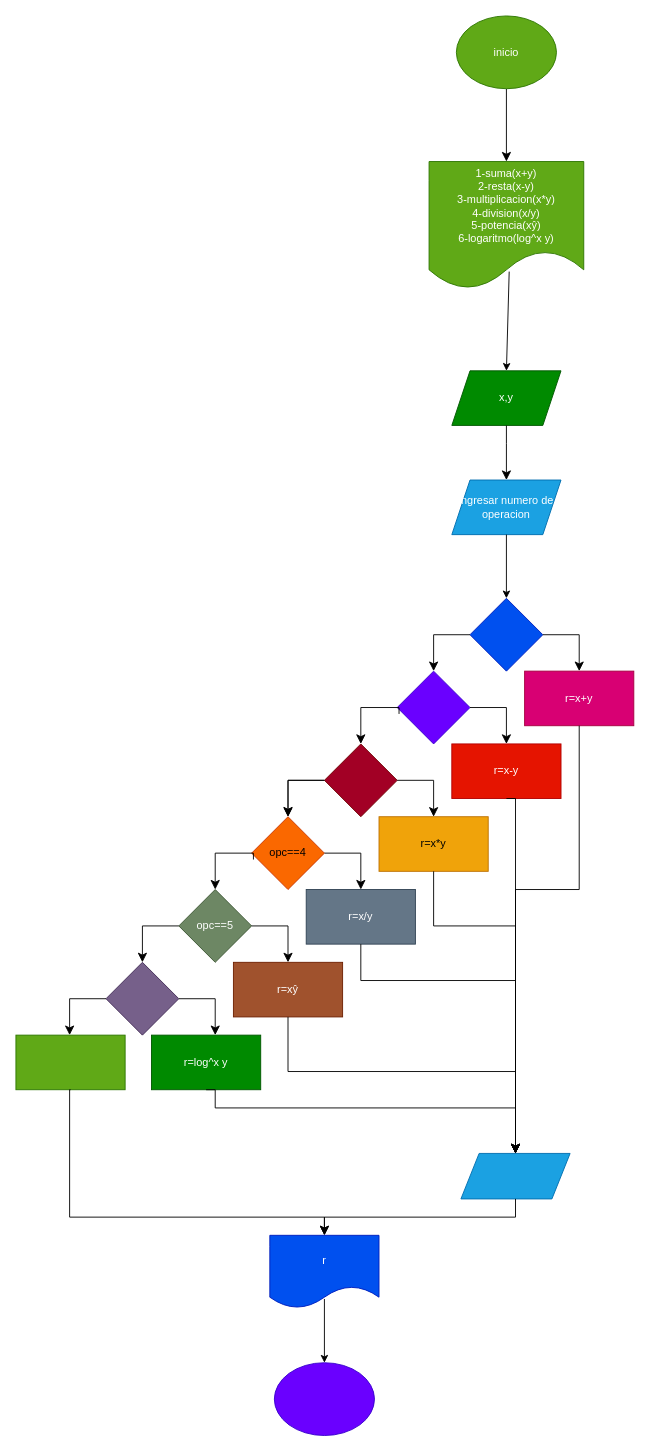
The diagram is 650 pixels wide and 1451 high, and some of its shapes have lost their labels. Each missing label, with the box of its shape:
fin: (273, 1362, 374, 1436)
no tiene operacion digite un numero otra ves: (15, 1034, 125, 1090)
opc==1: (469, 597, 543, 671)
opc==2: (396, 670, 470, 744)
opc==3: (324, 743, 397, 817)
opc==6: (105, 961, 179, 1035)
resultado: (460, 1153, 570, 1199)
